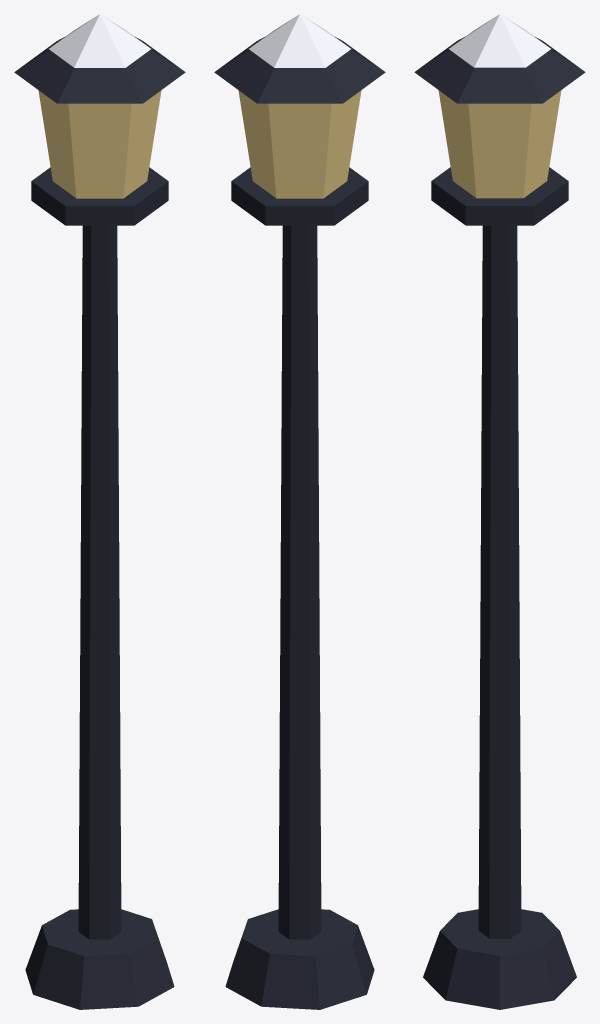
File: LampPost.fbx
The picture shows the model from 3 angles, left to right: view 1: azimuth 30°, elevation 25°; view 2: azimuth 150°, elevation 25°; view 3: azimuth 270°, elevation 25°; orthographic projection.
Visible parts, largest first — view 1: LampPost_Iron, LampPost_GlowWarm, LampPost_Snow; view 2: LampPost_Iron, LampPost_GlowWarm, LampPost_Snow; view 3: LampPost_Iron, LampPost_GlowWarm, LampPost_Snow.
Boxes of the visible parts, x1,y1,x2,y2 form: LampPost_Iron: [14, 37, 185, 1009]; LampPost_GlowWarm: [38, 90, 161, 198]; LampPost_Snow: [49, 14, 150, 67]; LampPost_Iron: [214, 37, 385, 1009]; LampPost_GlowWarm: [238, 90, 361, 198]; LampPost_Snow: [249, 14, 350, 67]; LampPost_Iron: [414, 37, 585, 1009]; LampPost_GlowWarm: [438, 90, 561, 198]; LampPost_Snow: [449, 14, 550, 67].
Size of the model in its own units: 180 by 1240 by 200.
